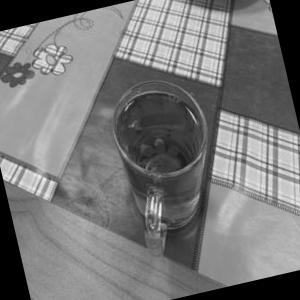tea: (98, 64, 243, 258)
